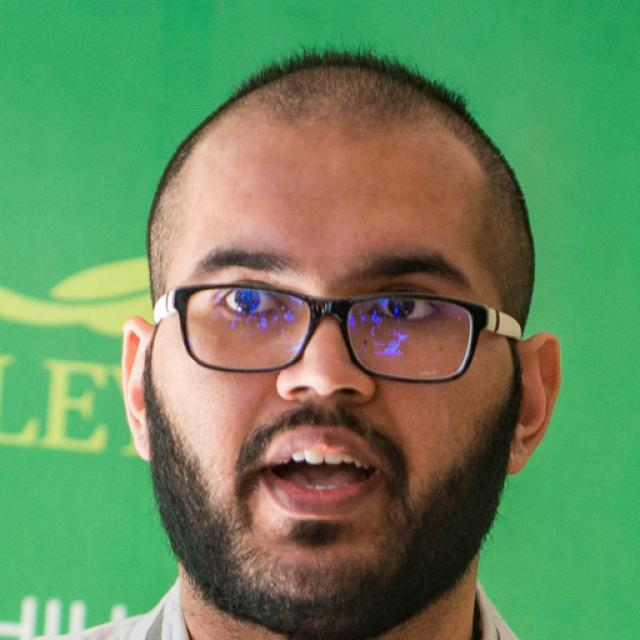surprise: (154, 108, 516, 622)
